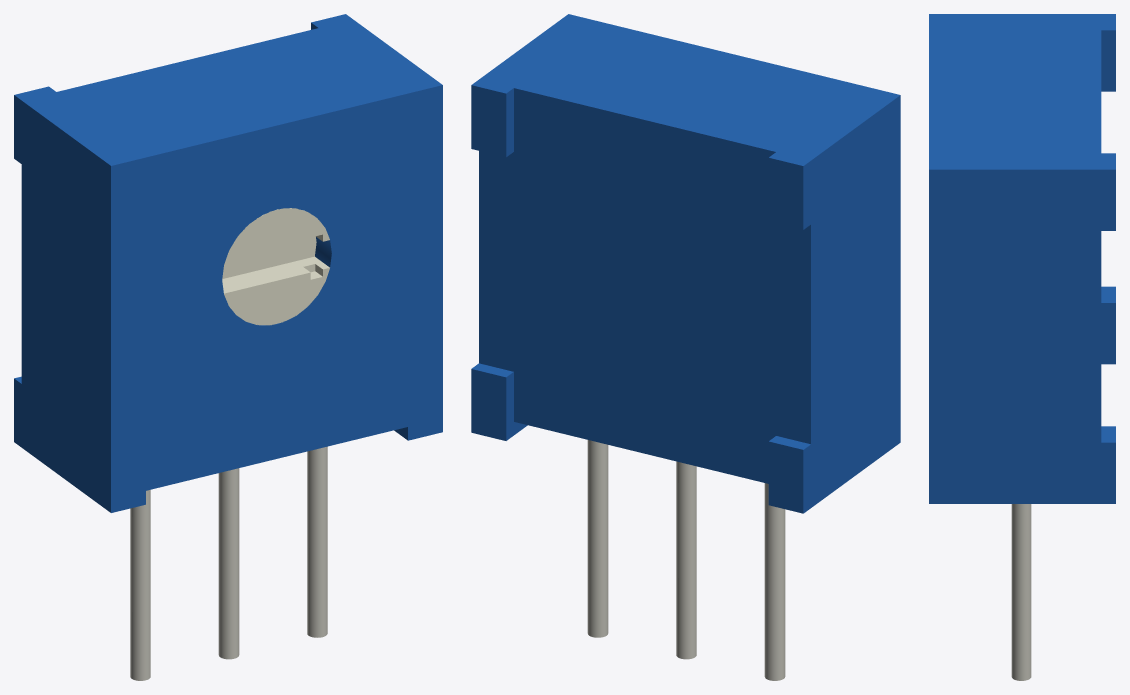
File: Potentiometer_THT__Potentiometer_Bourns_3386W_Horizontal.glb
3 views of the same model, side by side, from view 1: azimuth 30°, elevation 25°; view 2: azimuth 150°, elevation 25°; view 3: azimuth 270°, elevation 25° (orthographic). The views are drawn at different scales.
Parts seen in each view (by area): view 1: Potentiometer_Bourns_3386W_Horizontal; view 2: Potentiometer_Bourns_3386W_Horizontal; view 3: Potentiometer_Bourns_3386W_Horizontal.
Boxes of the visible parts, x1=… form: Potentiometer_Bourns_3386W_Horizontal: x1=14, y1=14, x2=442, y2=680; Potentiometer_Bourns_3386W_Horizontal: x1=471, y1=14, x2=900, y2=680; Potentiometer_Bourns_3386W_Horizontal: x1=929, y1=14, x2=1115, y2=680.
Bounding box in the file's own units: 0.00953 × 0.0155 × 0.00483.
